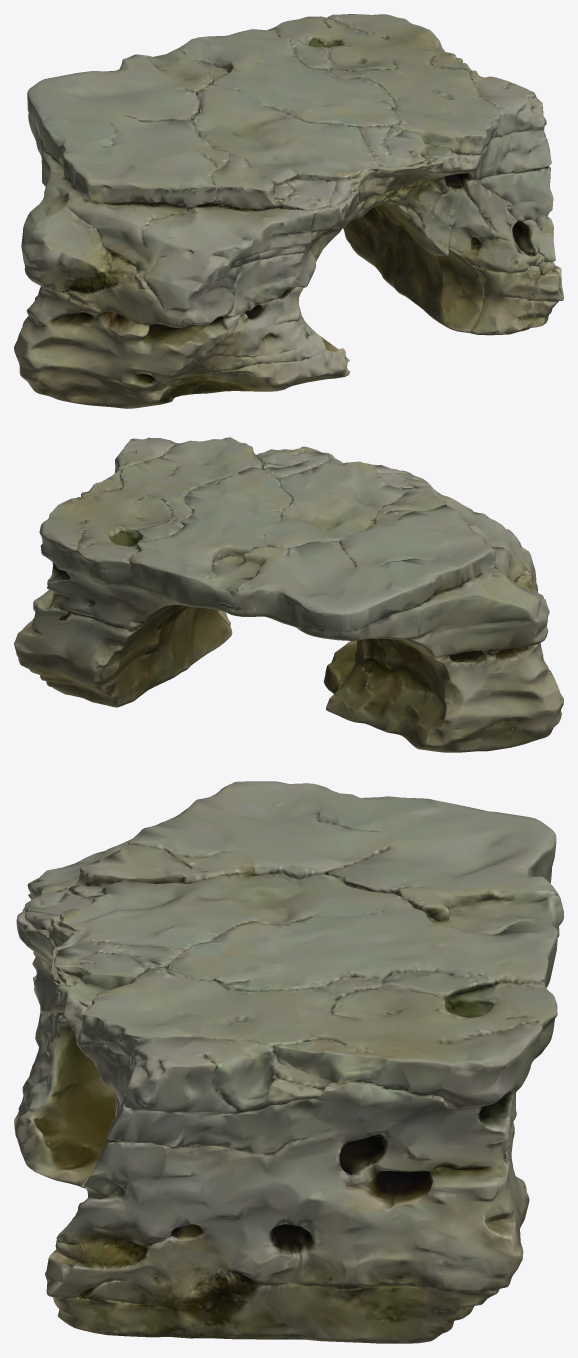
File: JiaShanShi_5.glb
The picture shows the model from 3 angles, top to bottom: view 1: azimuth 30°, elevation 25°; view 2: azimuth 150°, elevation 25°; view 3: azimuth 270°, elevation 25°; orthographic projection. The views are drawn at different scales.
Parts seen in each view (by area): view 1: tripo_node_33df4a64-0e29-4f69-bdd3-f2adfdcfc134; view 2: tripo_node_33df4a64-0e29-4f69-bdd3-f2adfdcfc134; view 3: tripo_node_33df4a64-0e29-4f69-bdd3-f2adfdcfc134.
Boxes of the visible parts, <box> form: tripo_node_33df4a64-0e29-4f69-bdd3-f2adfdcfc134: <box>14,14,563,408</box>; tripo_node_33df4a64-0e29-4f69-bdd3-f2adfdcfc134: <box>14,437,563,752</box>; tripo_node_33df4a64-0e29-4f69-bdd3-f2adfdcfc134: <box>14,781,563,1343</box>.
Bounding box in the file's own units: 0.9798 × 0.3892 × 0.6711.
1 material, 1 textured.
